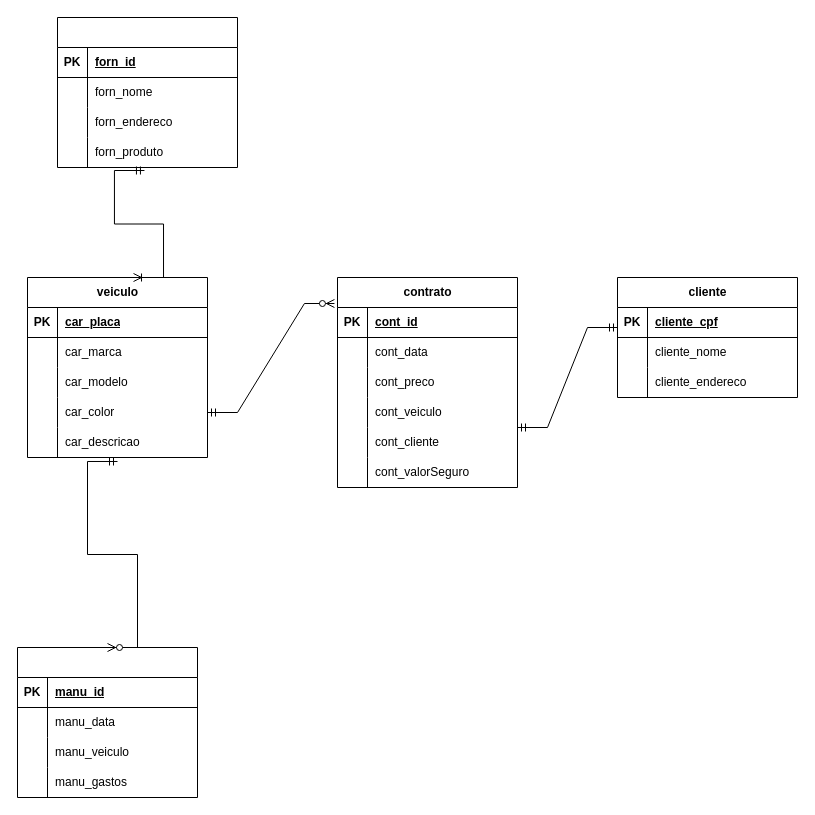
The diagram is 815 pixels wide and 815 high, and some of its shapes have lost their labels. Each missing label, with the box of its shape:
fornecedor: (56, 16, 238, 168)
manutencao: (16, 646, 198, 798)
